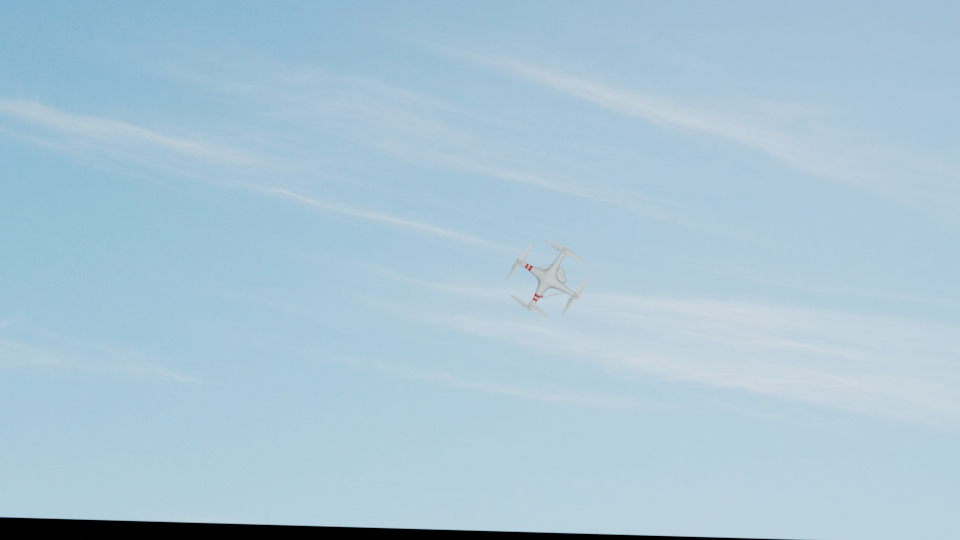drone: (510, 240, 587, 319)
